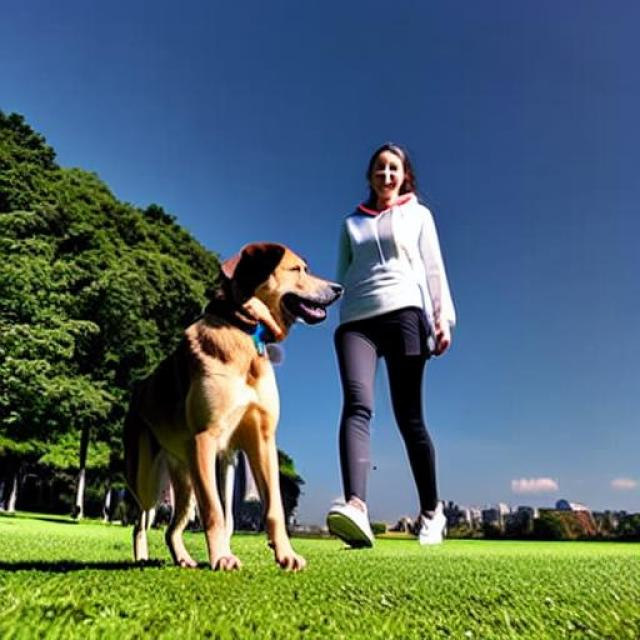Unleashed_Dog: (123, 239, 420, 572)
